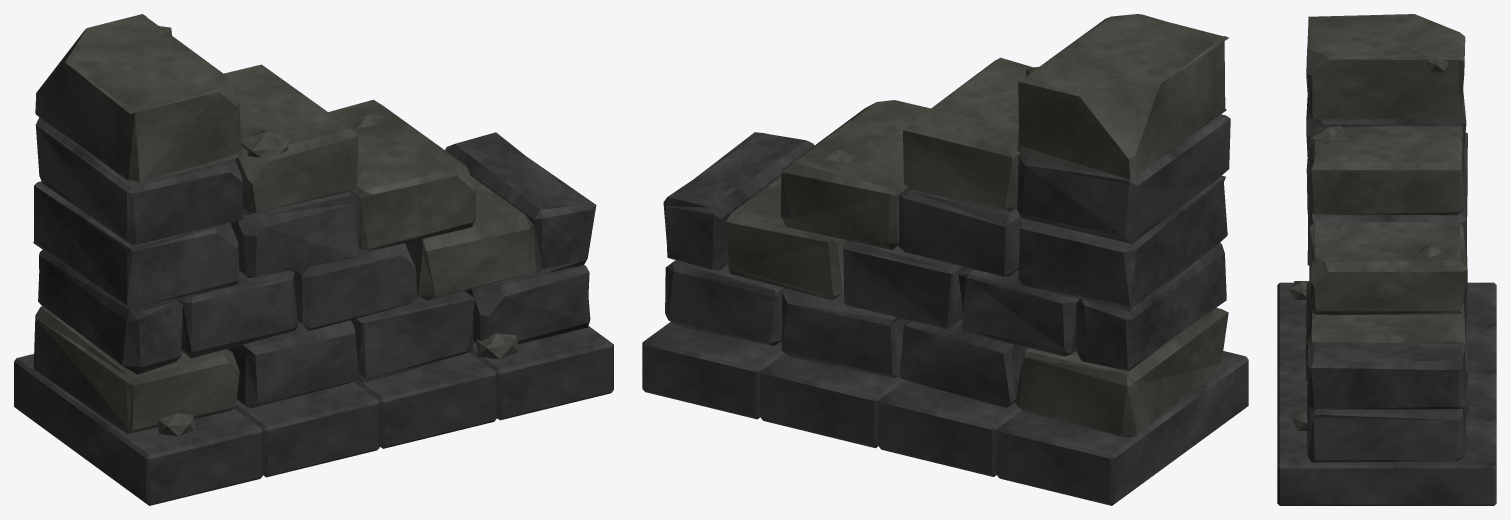
Rendered from env_ruin_wall.fbx.
3 views of the same model, side by side, from view 1: azimuth 30°, elevation 25°; view 2: azimuth 150°, elevation 25°; view 3: azimuth 270°, elevation 25° (orthographic). The views are drawn at different scales.
Parts seen in each view (by area): view 1: env_ruin_wall; view 2: env_ruin_wall; view 3: env_ruin_wall.
Part boxes in pixels (x1=…): env_ruin_wall: x1=14, y1=14, x2=613, y2=505; env_ruin_wall: x1=642, y1=14, x2=1248, y2=505; env_ruin_wall: x1=1277, y1=14, x2=1496, y2=505.
Size of the model in its own units: 192 by 96 by 150.
Materials: 1 (1 with a texture image).
